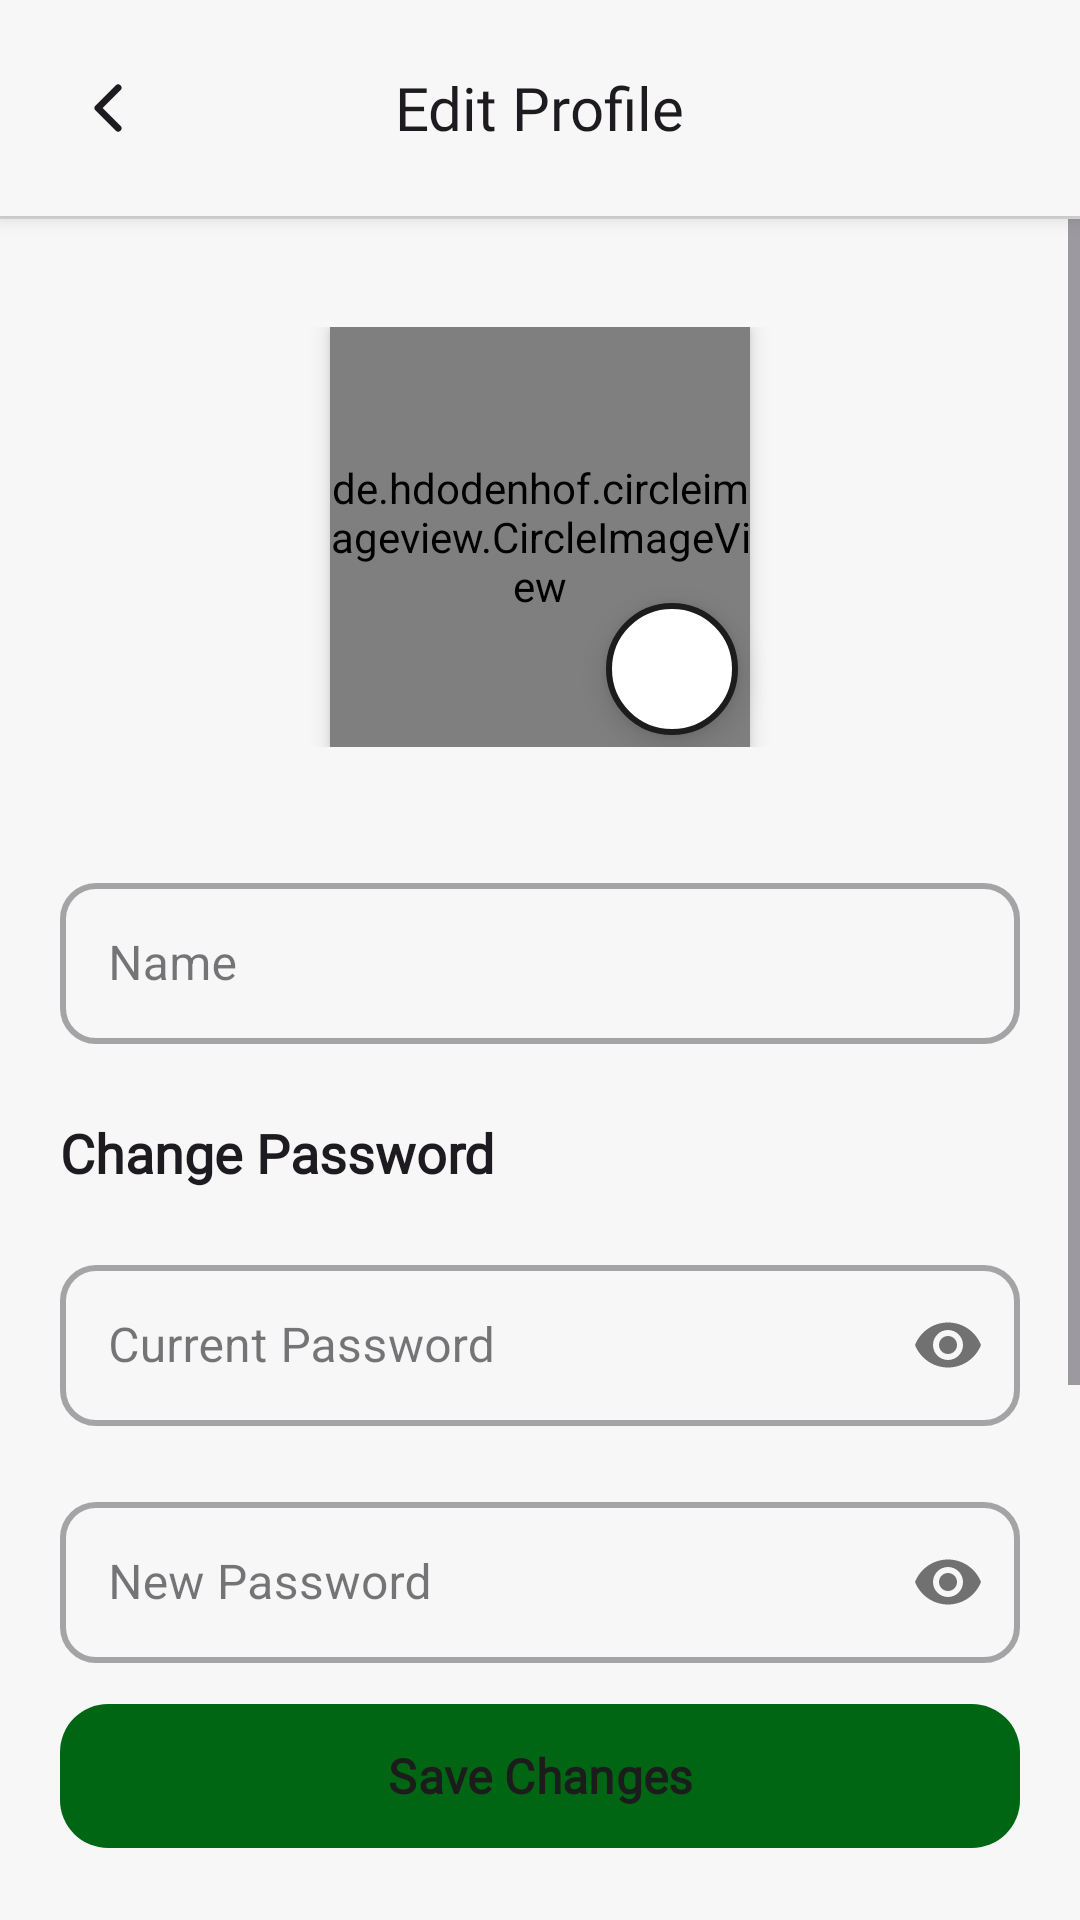

Where to tap for icons on this 1080*1920 app screen, as (x=x, y=y):
Back: (x=108, y=108)
